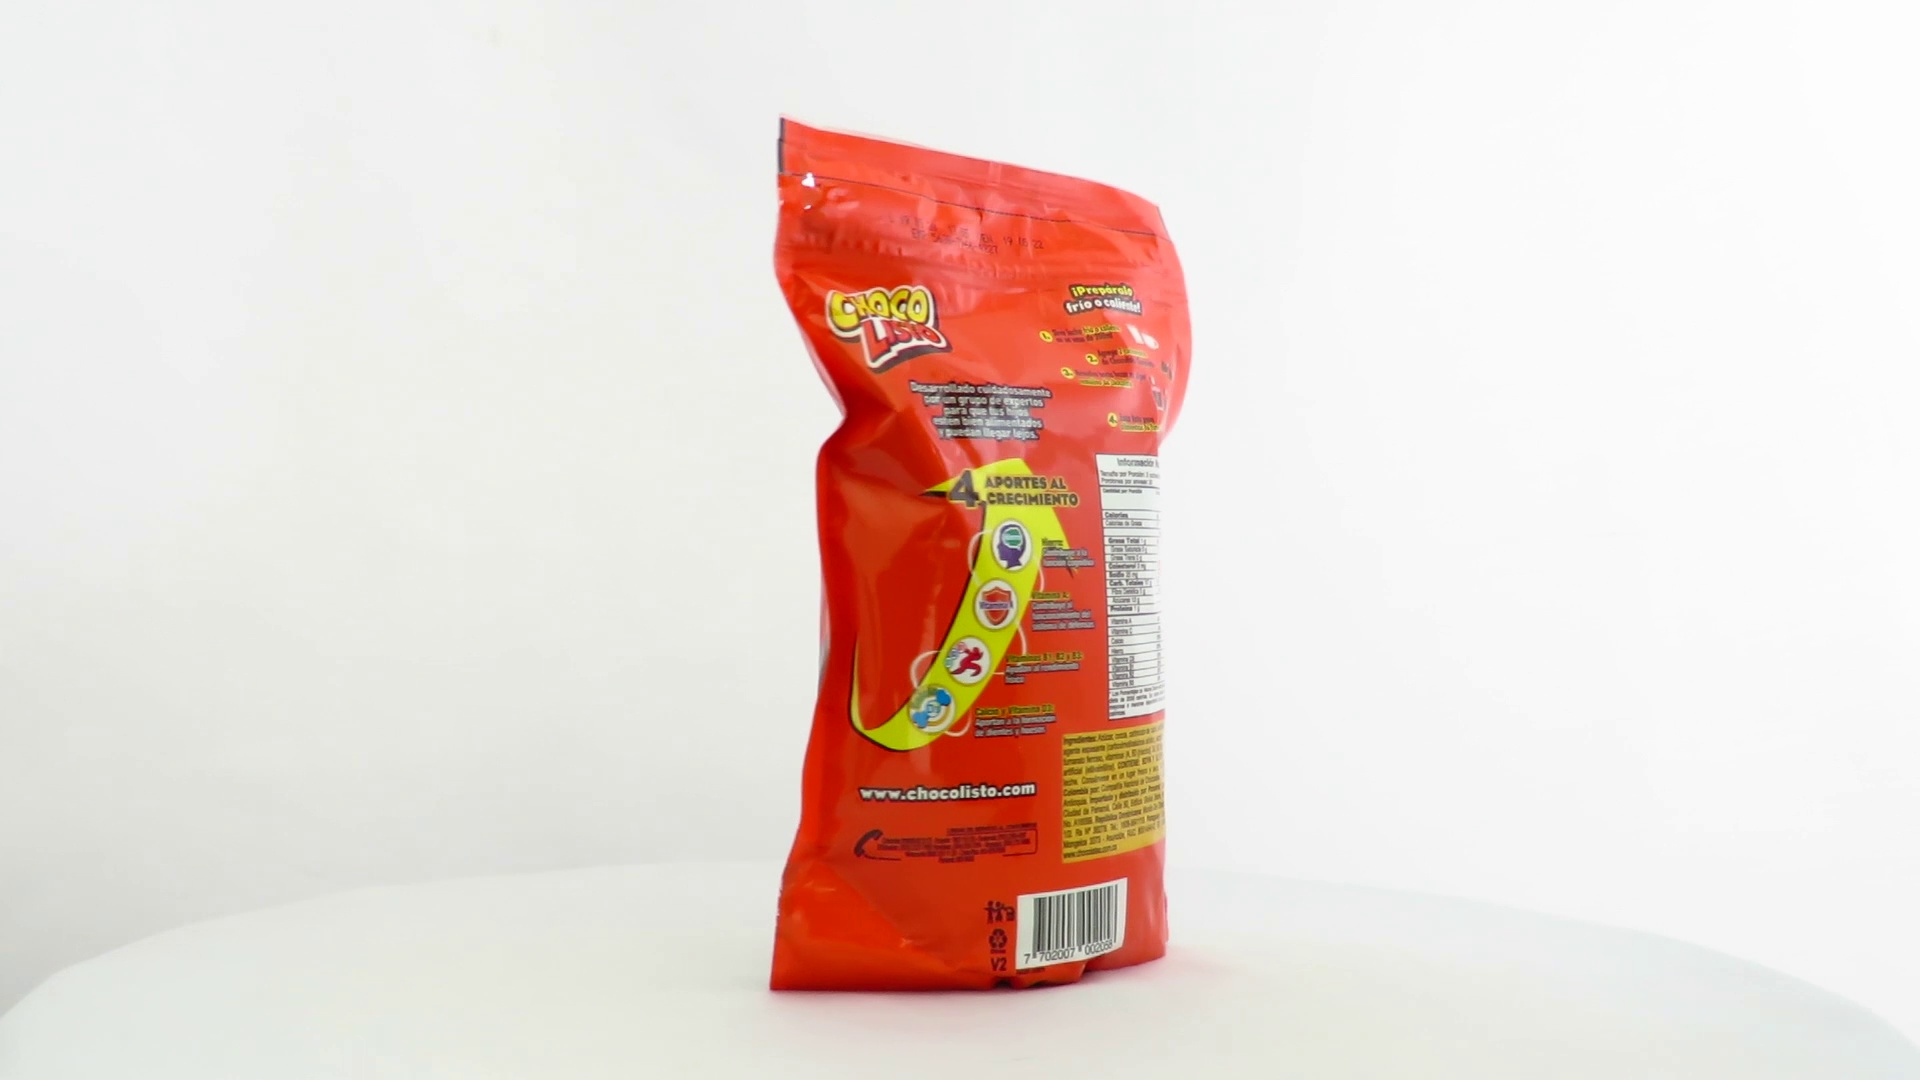COL0170103DYP40000: (764, 112, 1197, 1002)
